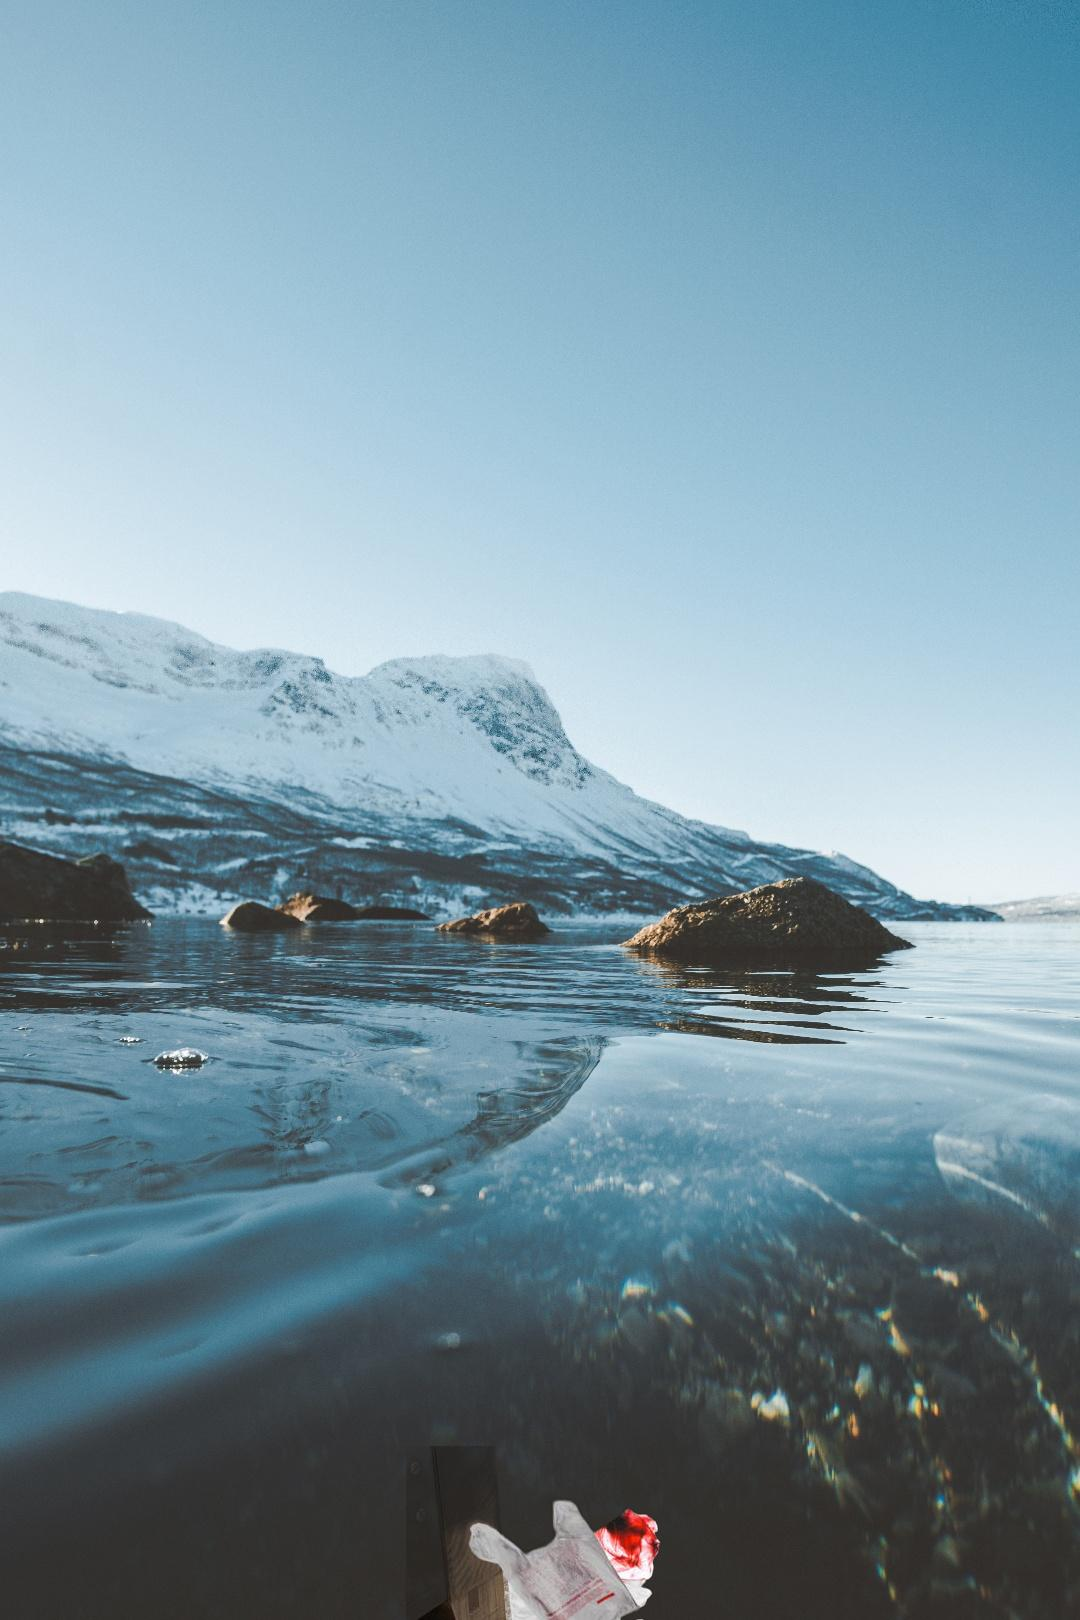plastic-bag: (406, 1446, 662, 1620)
